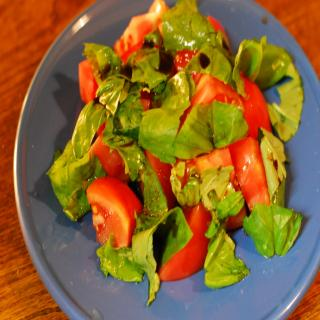tomato: (156, 201, 214, 284), (194, 146, 247, 228), (85, 173, 142, 247), (176, 71, 242, 132), (227, 134, 272, 212), (84, 130, 131, 181), (240, 72, 273, 136), (113, 11, 154, 62), (141, 148, 175, 208), (77, 57, 98, 106), (207, 14, 230, 48)
